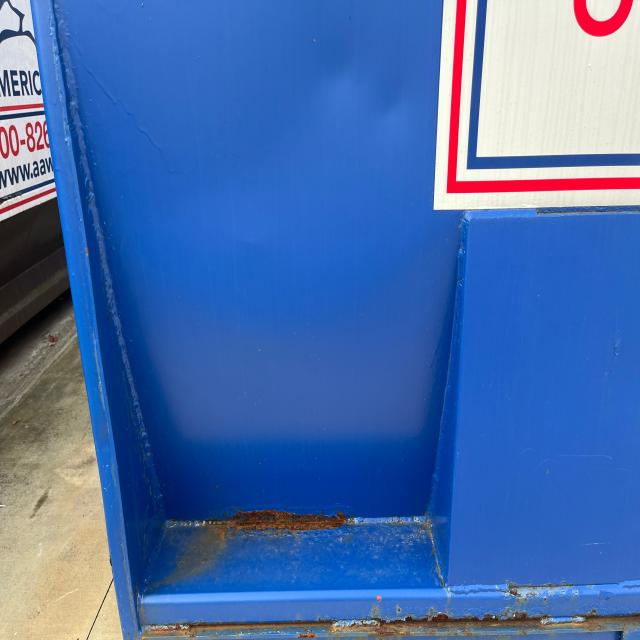Crevice Corrosion: (158, 508, 357, 590), (142, 608, 640, 640), (505, 585, 581, 611)
